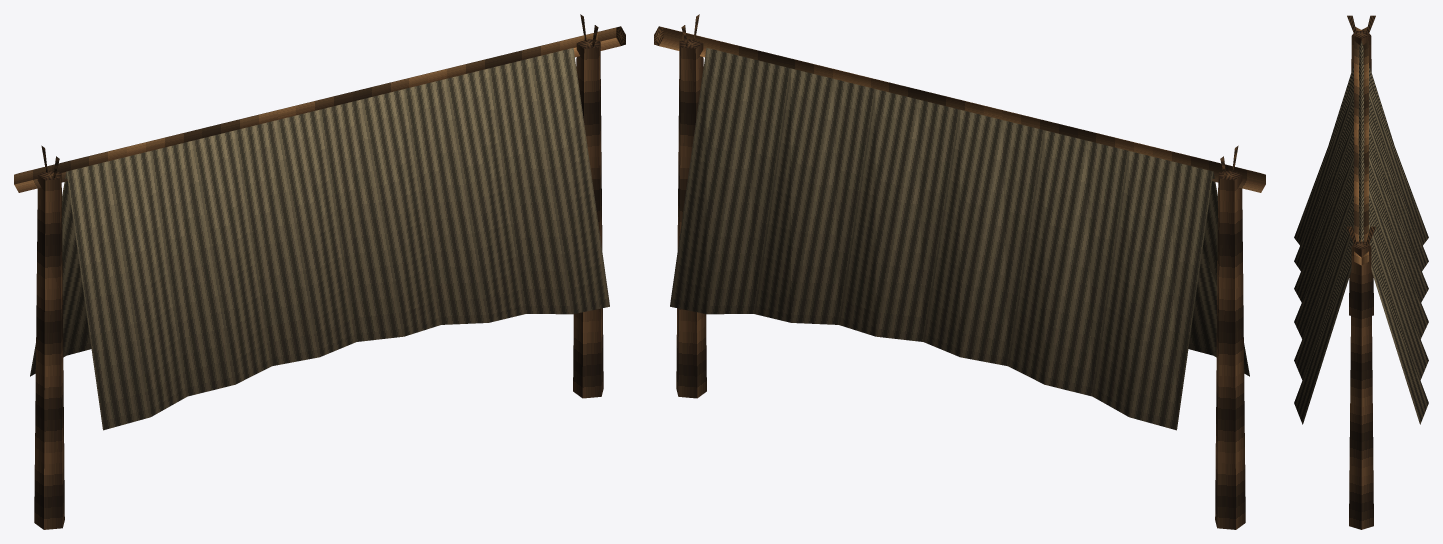
File: net_rack.glb
3 renders of one model, left to right at view 1: azimuth 30°, elevation 25°; view 2: azimuth 150°, elevation 25°; view 3: azimuth 270°, elevation 25°, orthographic. The views are drawn at different scales.
Parts seen in each view (by area): view 1: net_rack; view 2: net_rack; view 3: net_rack.
Part boxes in pixels (bbox=[...]): net_rack: bbox=[14, 14, 625, 529]; net_rack: bbox=[654, 14, 1265, 529]; net_rack: bbox=[1294, 15, 1428, 529].
Size of the model in its own units: 1.9 by 1.12 by 0.46.
1 material, 1 textured.
